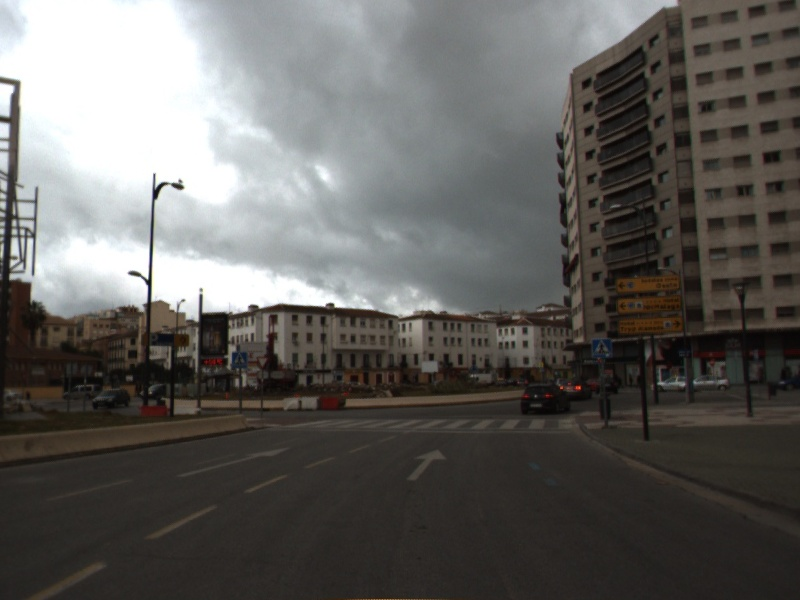STRAIGHT: (174, 445, 294, 480), (404, 447, 450, 483)
